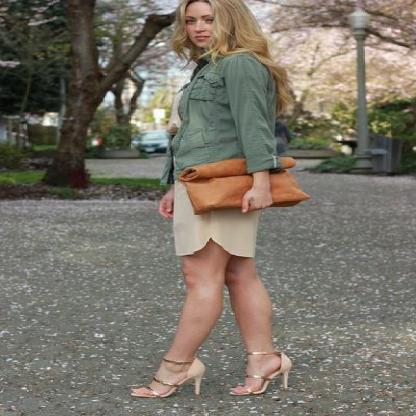bag: (187, 155, 308, 221)
shirt: (151, 48, 283, 184)
shoe: (148, 352, 291, 396)
skirt: (167, 174, 257, 256)
